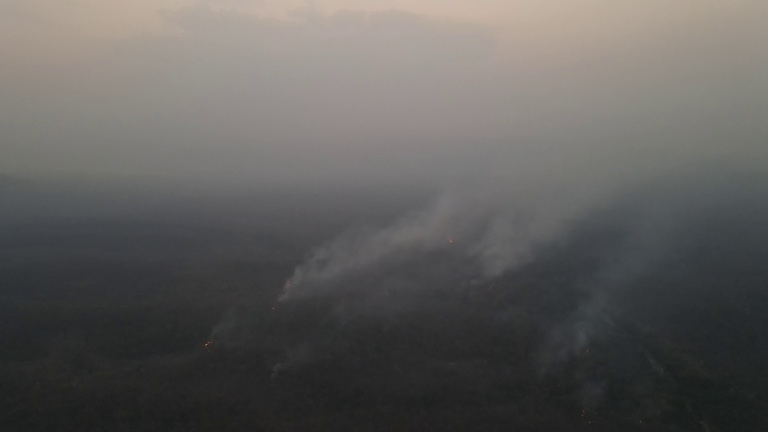fire: (269, 259, 301, 320), (203, 334, 221, 355), (579, 404, 591, 419), (444, 235, 457, 247), (581, 345, 593, 353)
smoke: (274, 128, 570, 310), (529, 240, 648, 418), (201, 299, 243, 355), (269, 340, 306, 381)
